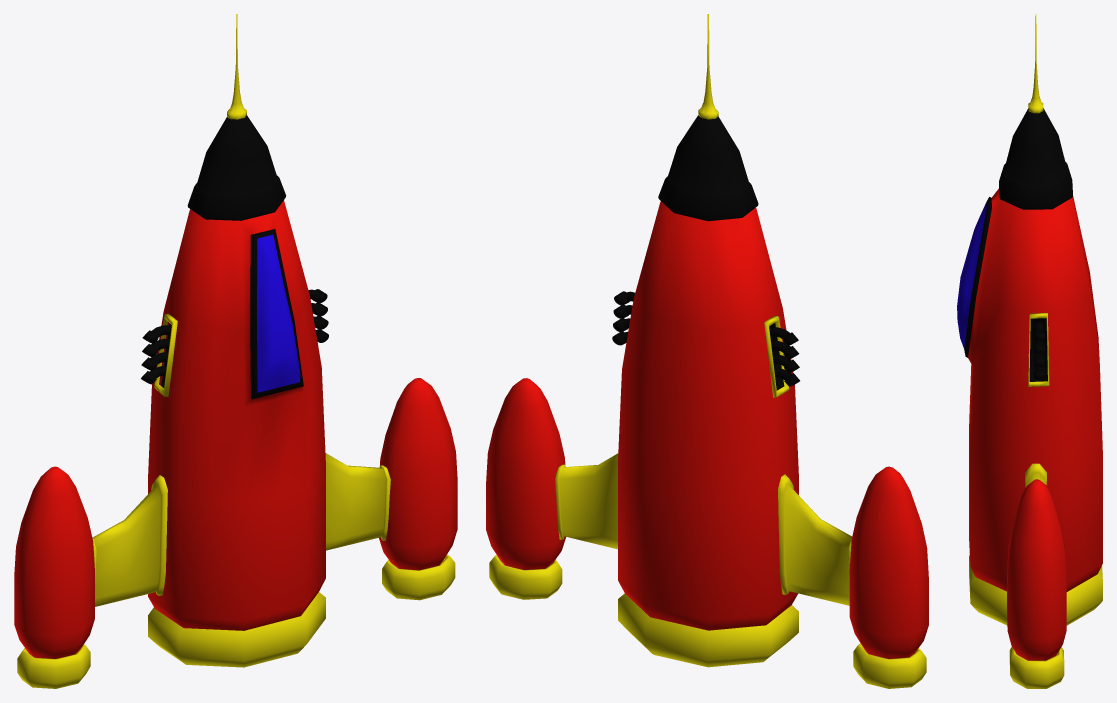
The model's file is Roket.fbx.
3 views of the same model, side by side, from view 1: azimuth 30°, elevation 25°; view 2: azimuth 150°, elevation 25°; view 3: azimuth 270°, elevation 25° (orthographic). The views are drawn at different scales.
Parts seen in each view (by area): view 1: Roket; view 2: Roket; view 3: Roket.
Part boxes in pixels (bbox=[...]): Roket: bbox=[14, 14, 457, 688]; Roket: bbox=[486, 14, 928, 688]; Roket: bbox=[957, 14, 1102, 688].
Bounding box in the file's own units: 1141 × 1581 × 357.
